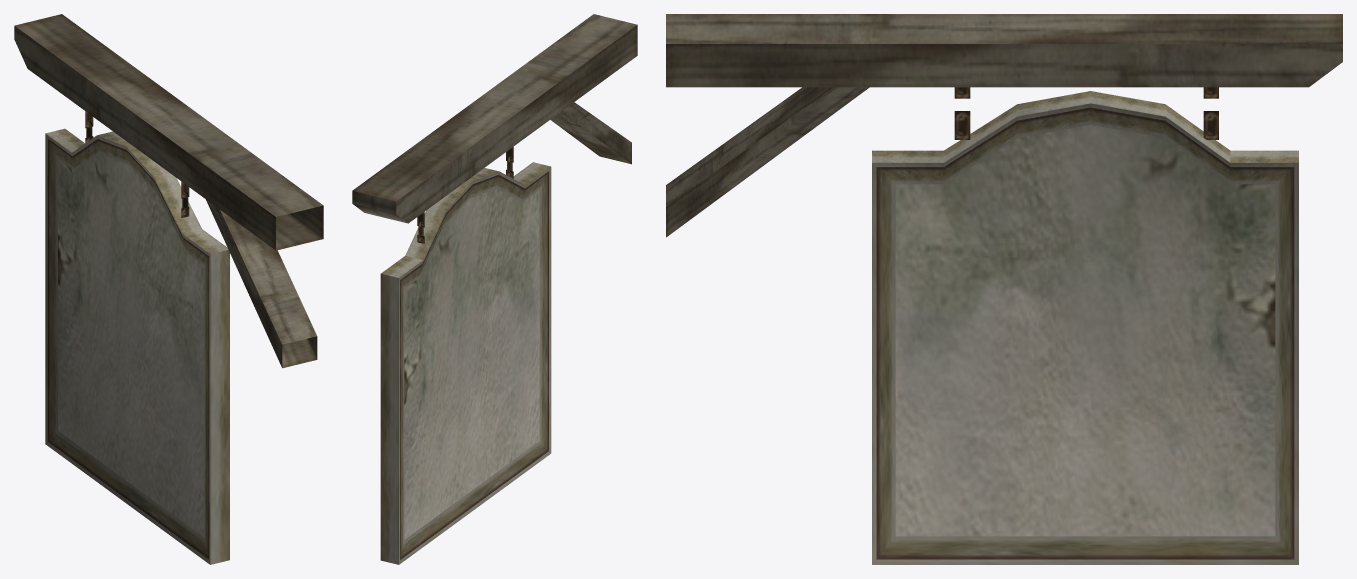
File: sign1_spanish_a_frame.fbx
The picture shows the model from 3 angles, left to right: view 1: azimuth 30°, elevation 25°; view 2: azimuth 150°, elevation 25°; view 3: azimuth 270°, elevation 25°; orthographic projection. The views are drawn at different scales.
Visible parts, largest first — view 1: sign, support_horizontal, support_diagonal; view 2: sign, support_horizontal, support_diagonal; view 3: sign, support_horizontal, support_diagonal.
Part boxes in pixels (x1,y1,x2,y2): sign: [45, 128, 229, 564]; support_horizontal: [14, 14, 323, 250]; support_diagonal: [206, 199, 317, 368]; sign: [380, 162, 551, 564]; support_horizontal: [352, 14, 637, 223]; support_diagonal: [550, 102, 631, 164]; sign: [872, 91, 1298, 564]; support_horizontal: [666, 14, 1342, 87]; support_diagonal: [666, 87, 869, 237].
Size of the model in its own units: 64.52 by 530 by 614.
Materials: 2 (2 with a texture image).
